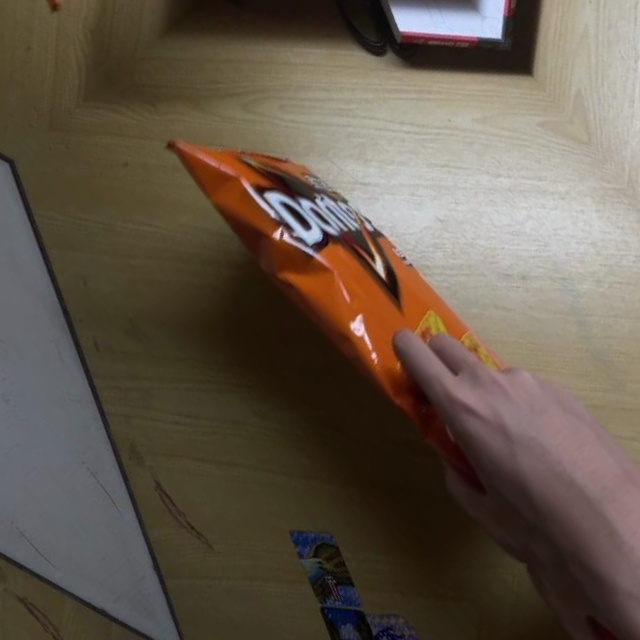Doritos: (155, 62, 593, 552)
